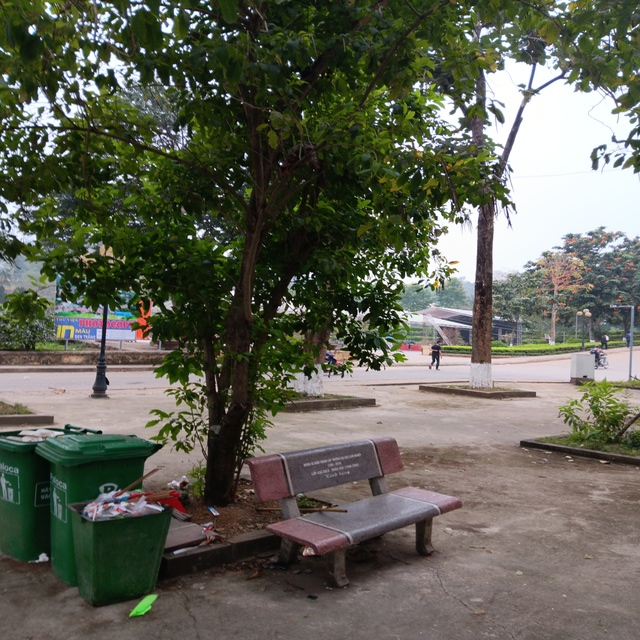thungrac: (37, 422, 154, 580), (1, 420, 101, 576), (68, 494, 173, 614)
